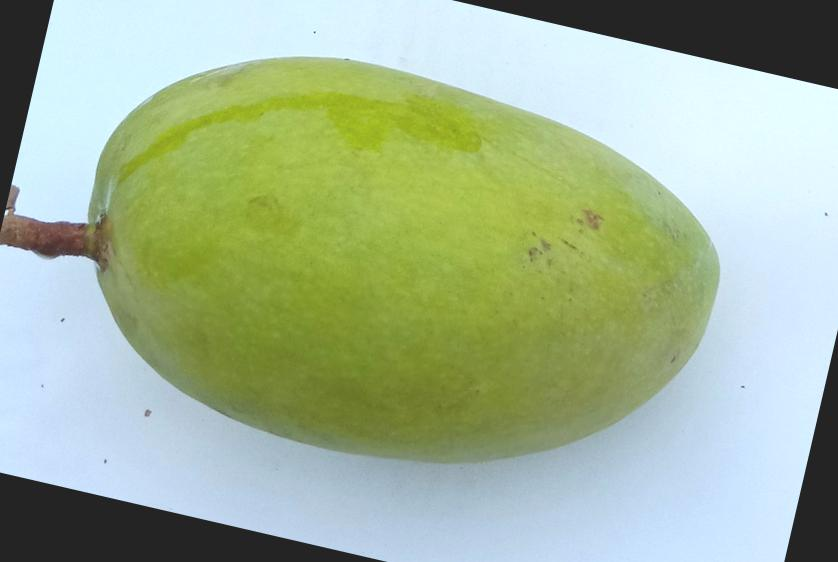Mango Unripe: (13, 0, 792, 562)
